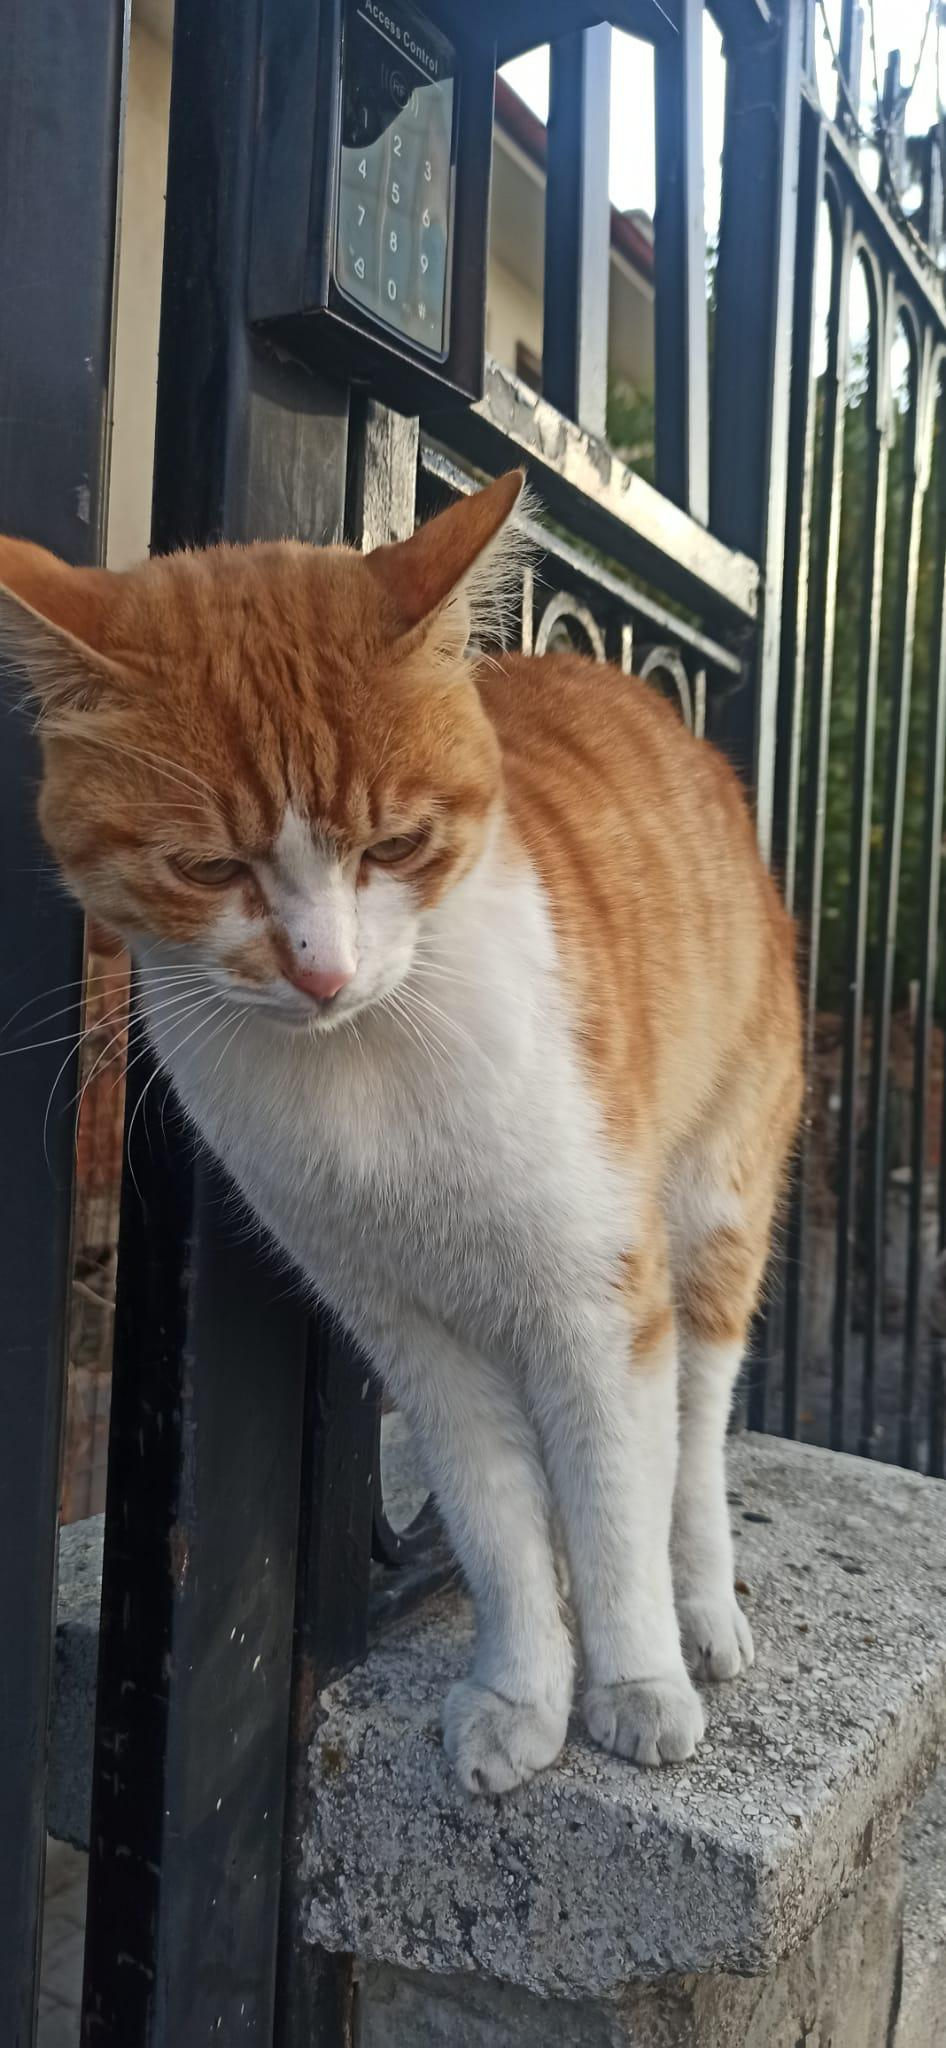kedo: (0, 477, 798, 1799)
